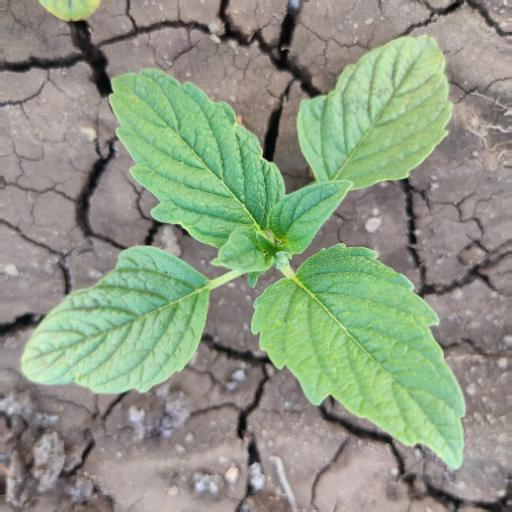crop: (20, 54, 484, 480)
